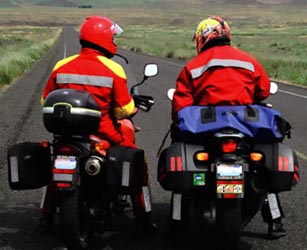helmet: (78, 13, 124, 60), (190, 14, 239, 47)
